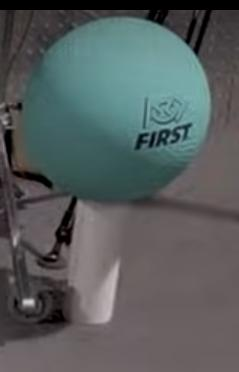algae: (20, 18, 211, 202)
coral: (62, 202, 128, 324)
